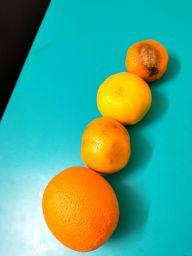orange: (41, 164, 121, 253), (96, 71, 153, 126), (80, 118, 133, 174), (125, 39, 169, 83)
